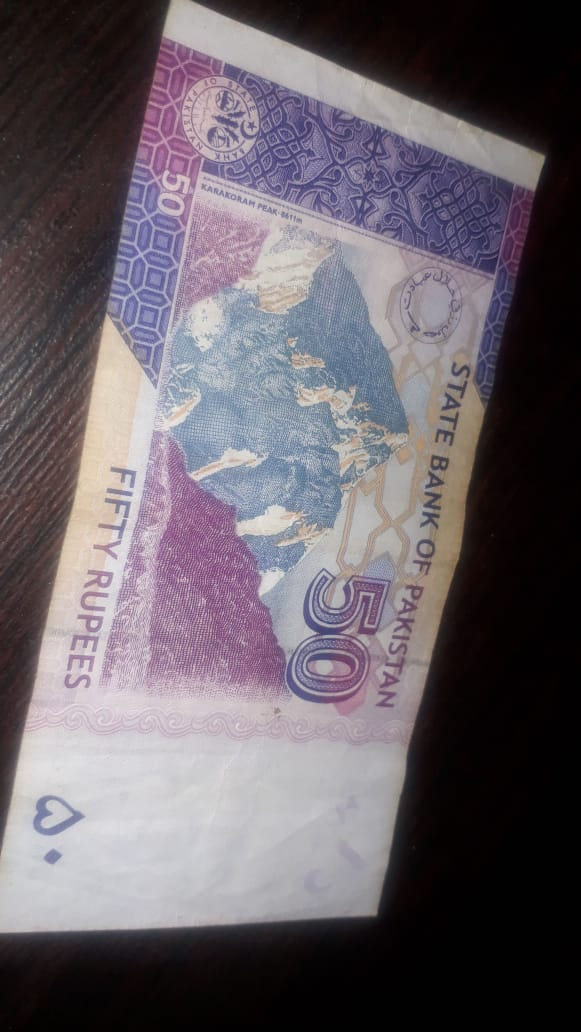50 rupee: (18, 11, 534, 1025)
